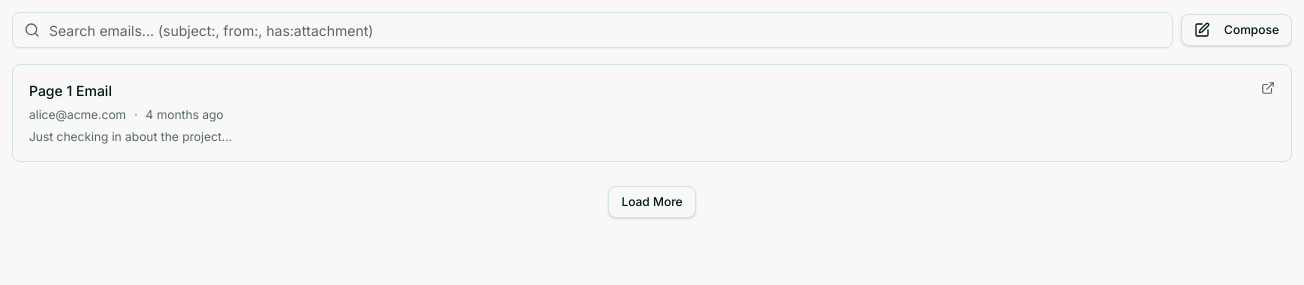
Scenario: EmailTab — pagination › Load More fetches next page and appends results
The image size is (1304, 285).
Expected: the text "Page 1 Email" is shown, left=29, top=81, right=112, bottom=101
What coordinates should you click on to do the following:
click the button "Load More"
I would click on:
 (652, 202)
Its box is left=608, top=186, right=696, bottom=218.
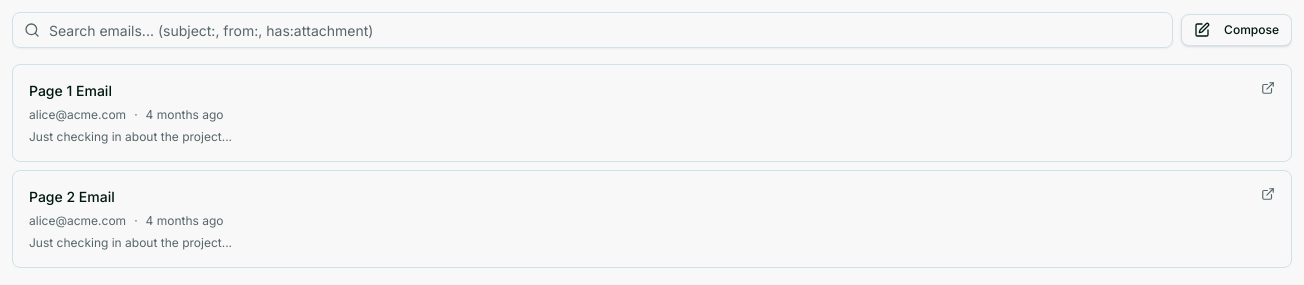
Expected: the text "Page 1 Email" is shown, left=29, top=81, right=112, bottom=101
Expected: the text "Page 2 Email" is shown, left=29, top=187, right=115, bottom=207
Expected: the button "Load More" is gone
